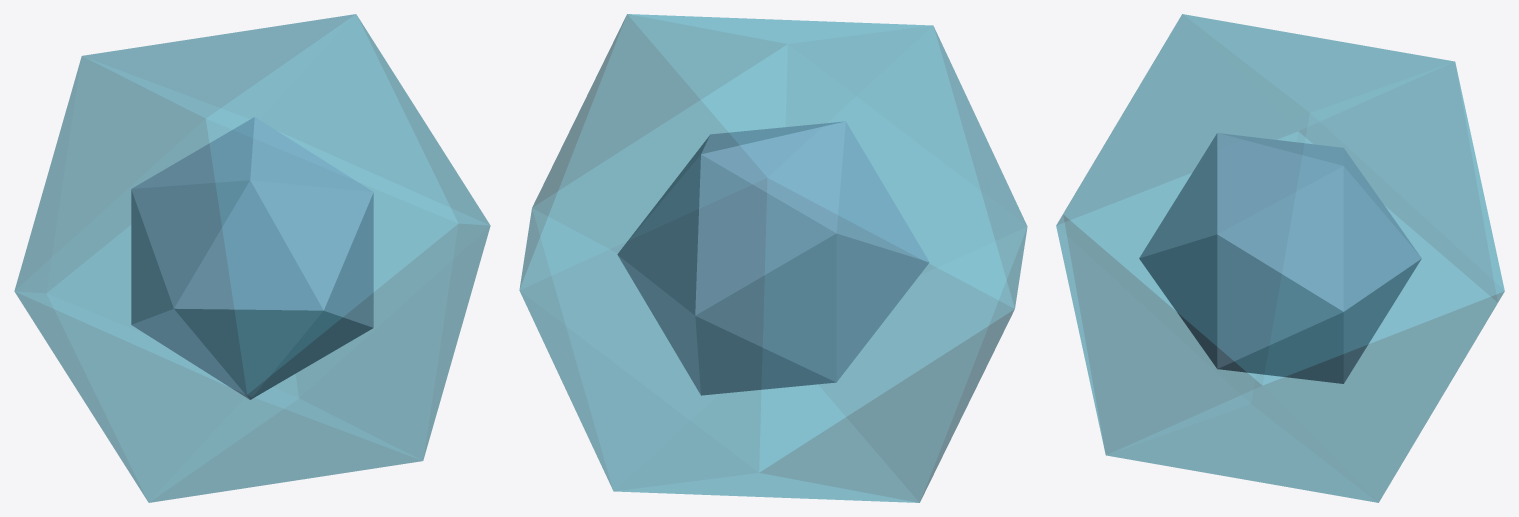
Rendered from globe.obj.
The picture shows the model from 3 angles, left to right: view 1: azimuth 30°, elevation 25°; view 2: azimuth 150°, elevation 25°; view 3: azimuth 270°, elevation 25°; orthographic projection. The views are drawn at different scales.
Parts seen in each view (by area): view 1: Icosphere.001, Icosphere; view 2: Icosphere.001, Icosphere; view 3: Icosphere.001, Icosphere.
Boxes of the visible parts, box(x1,y1,x2,y2) form: Icosphere.001: box(14, 14, 490, 502); Icosphere: box(131, 117, 373, 399); Icosphere.001: box(519, 14, 1027, 502); Icosphere: box(617, 121, 929, 395); Icosphere.001: box(1056, 14, 1504, 502); Icosphere: box(1139, 133, 1421, 383).
Size of the model in its own units: 0.9504 by 0.8115 by 0.8128.
